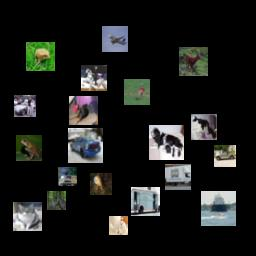airplane: (102, 26, 128, 52)
automobile: (68, 128, 103, 163), (14, 95, 36, 117), (214, 145, 236, 167)
cat: (13, 202, 42, 231), (191, 114, 217, 140)
deer: (179, 47, 208, 76), (124, 79, 150, 105)
dog: (149, 125, 184, 160), (69, 96, 98, 125), (109, 216, 128, 235)
frog: (26, 42, 55, 71), (16, 135, 42, 161), (90, 173, 112, 195)
ship: (201, 191, 236, 226)
truck: (131, 187, 160, 216), (165, 164, 191, 190), (58, 167, 77, 186)
